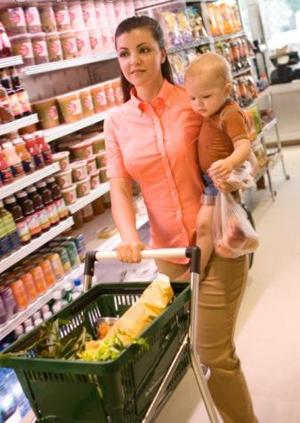person: (101, 14, 261, 423)
